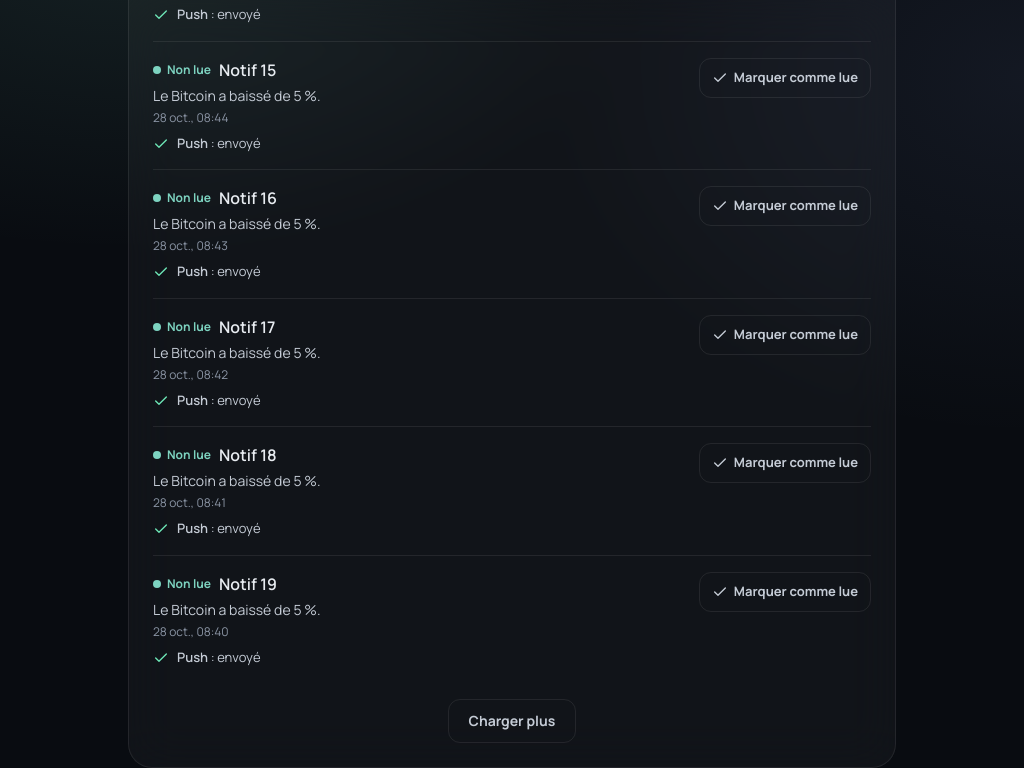
it: NotificationsPage › charge la page suivante depuis la date de la dernière notification lue
The image size is (1024, 768).
(page scrolled)
Step 1. Click the button "Charger plus" → (512, 721), box [448,699,576,743]
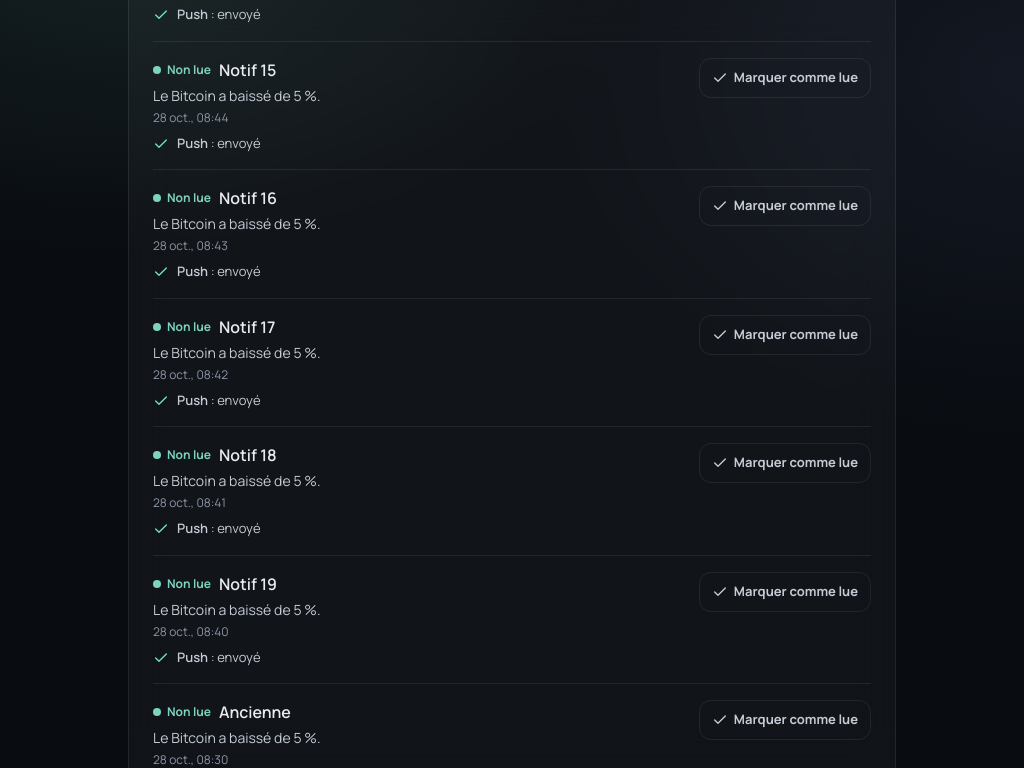
Check: the text "Ancienne" is shown, box [219,700,291,724]
Check: the button "Charger plus" is gone
